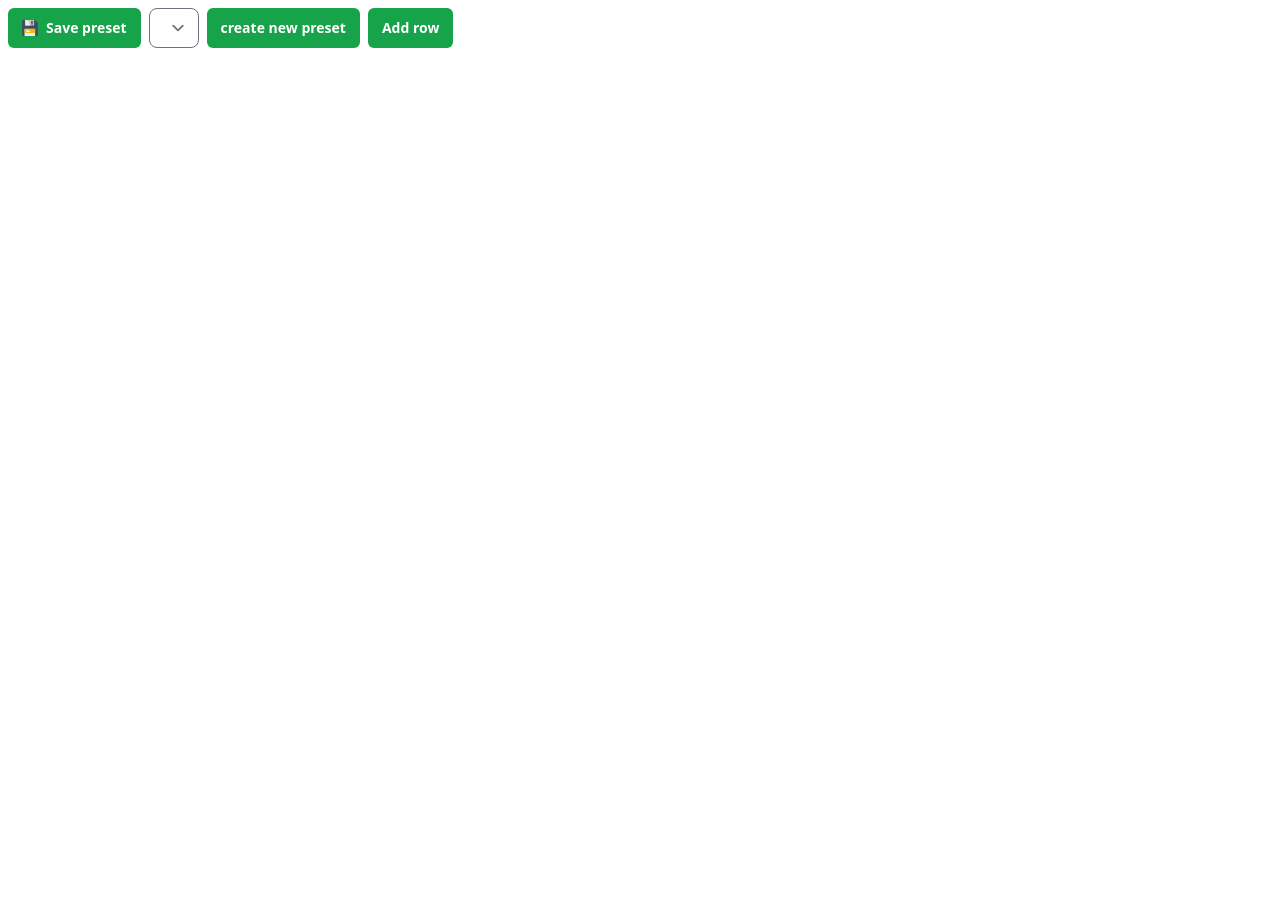
Test: PresetControls › Should render inputdialog when dialog click
This screenshot has width=1280, height=900.
Click the button with test id "create_preset_button" at (283, 28), box [207,8,360,48]
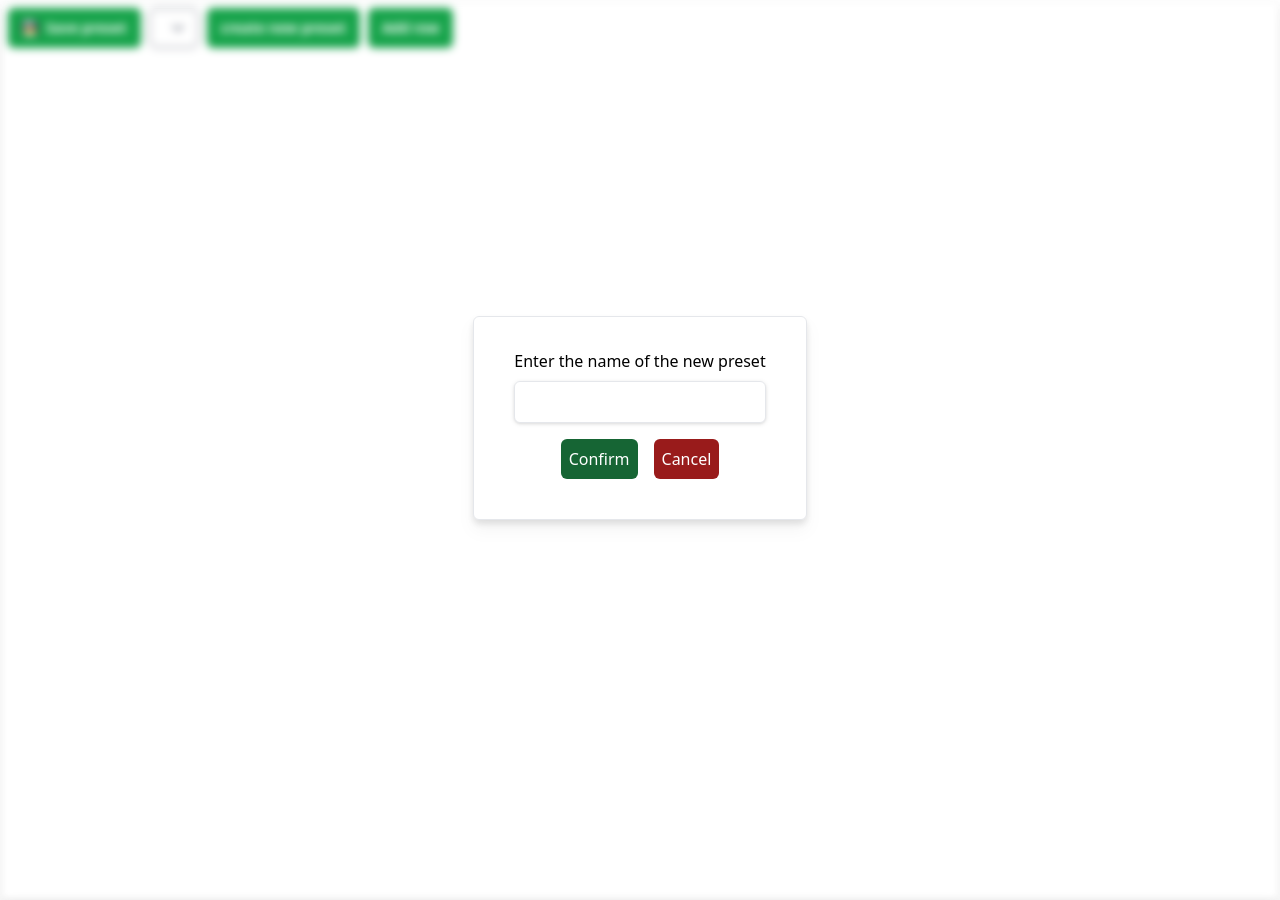
Check: the element with test id "inputdialog" is shown, box [473,316,807,520]
